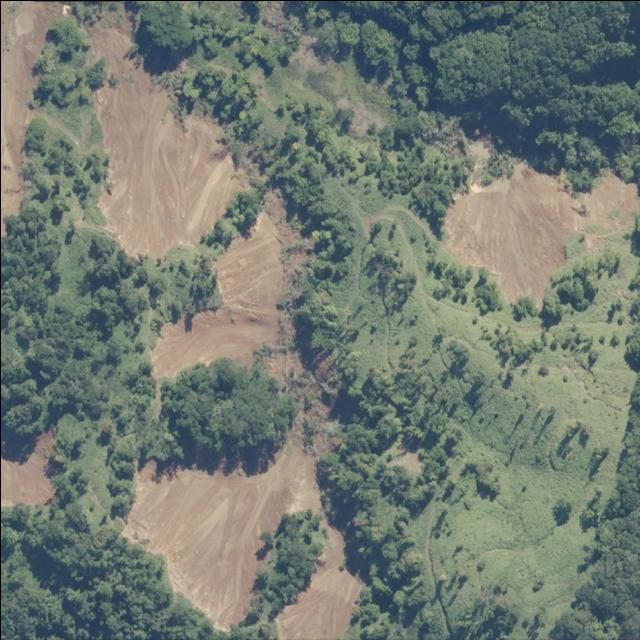landslide: (122, 193, 362, 639), (87, 9, 246, 257), (442, 161, 639, 306), (0, 0, 59, 223), (0, 435, 50, 504)
